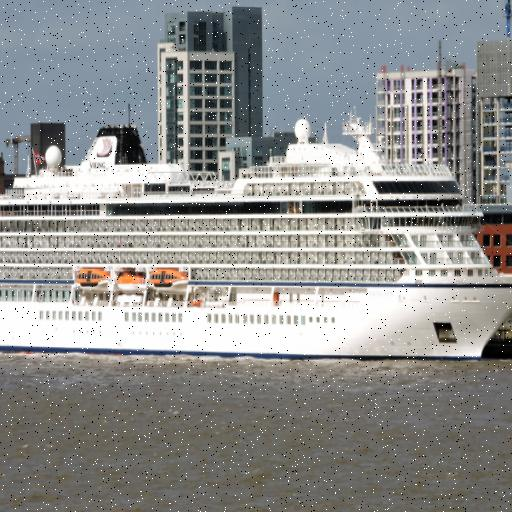cruises: (1, 111, 512, 363)
